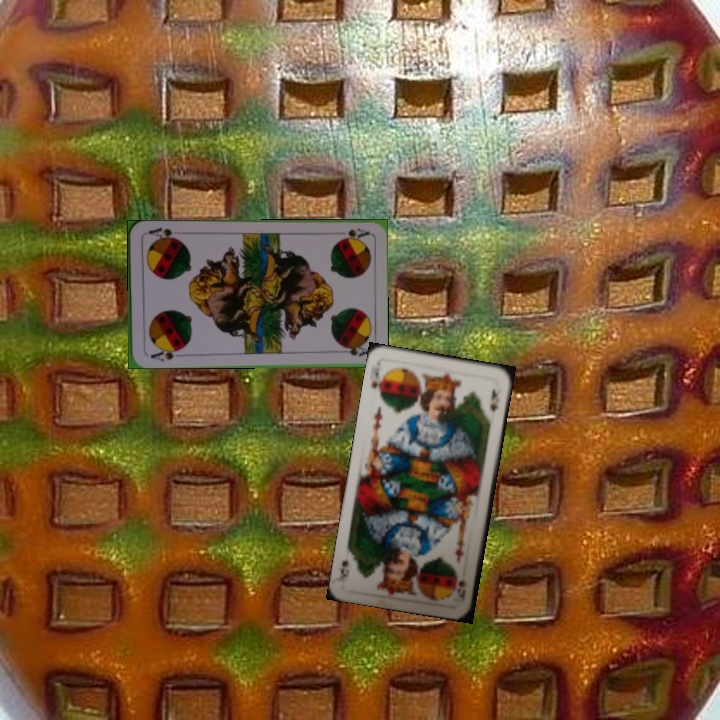SA: (147, 344, 183, 364), (331, 224, 371, 242)
SK: (367, 367, 387, 399), (453, 575, 468, 605)
